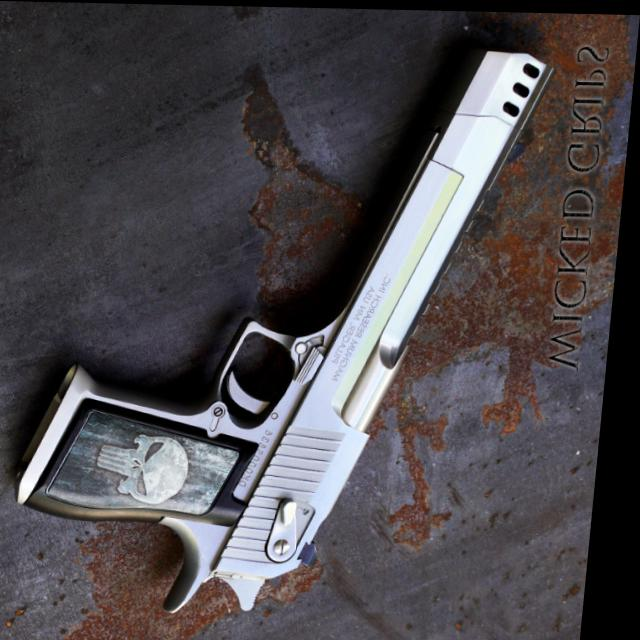handgun: (29, 47, 559, 616)
